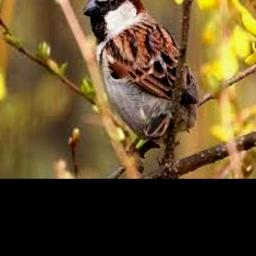Sparrow: (82, 0, 198, 155)
